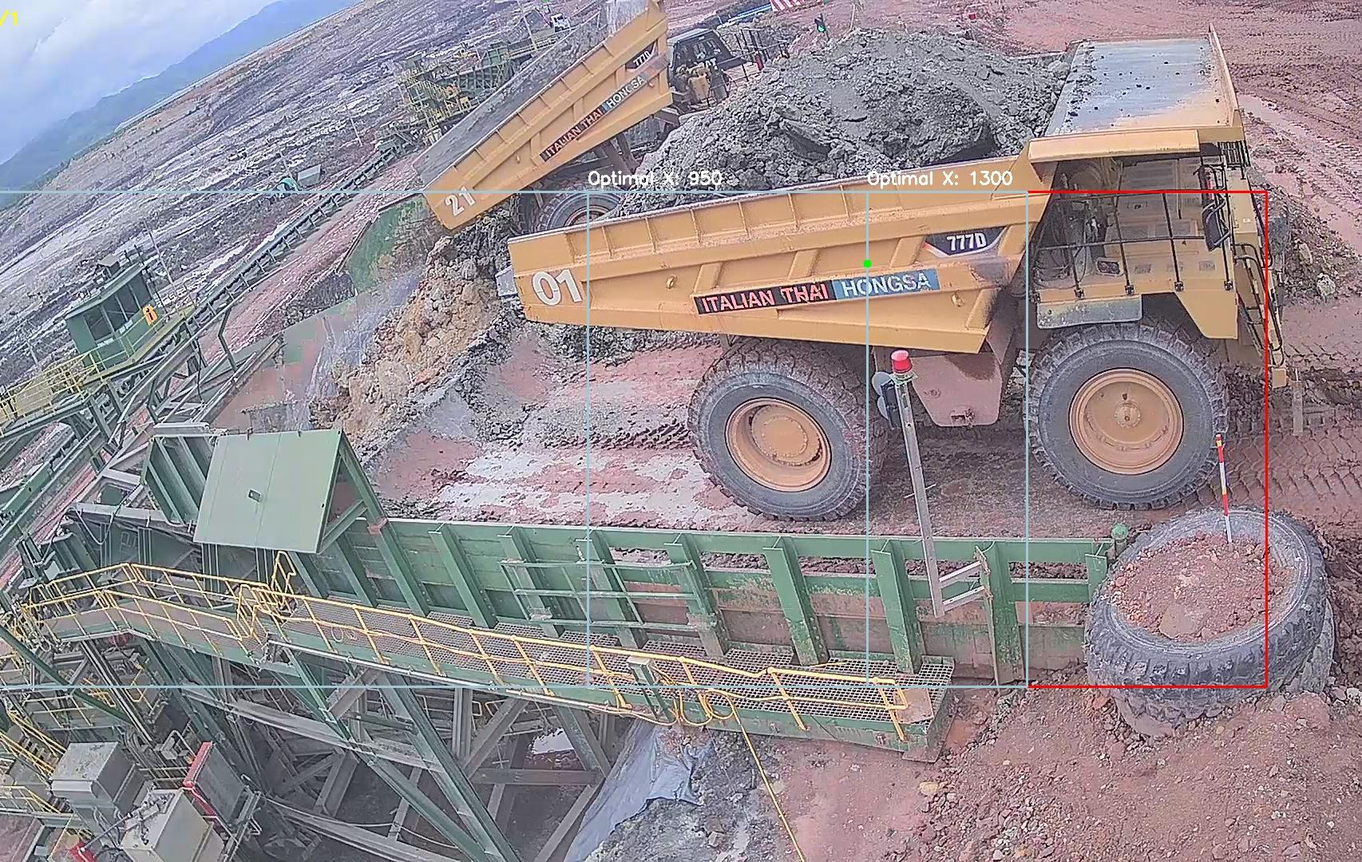company: (676, 263, 953, 320)
full_load: (683, 25, 1053, 202)
mining_truck: (504, 16, 1315, 534)
tail_number: (522, 261, 594, 319)
truck_size: (925, 219, 1009, 258)
